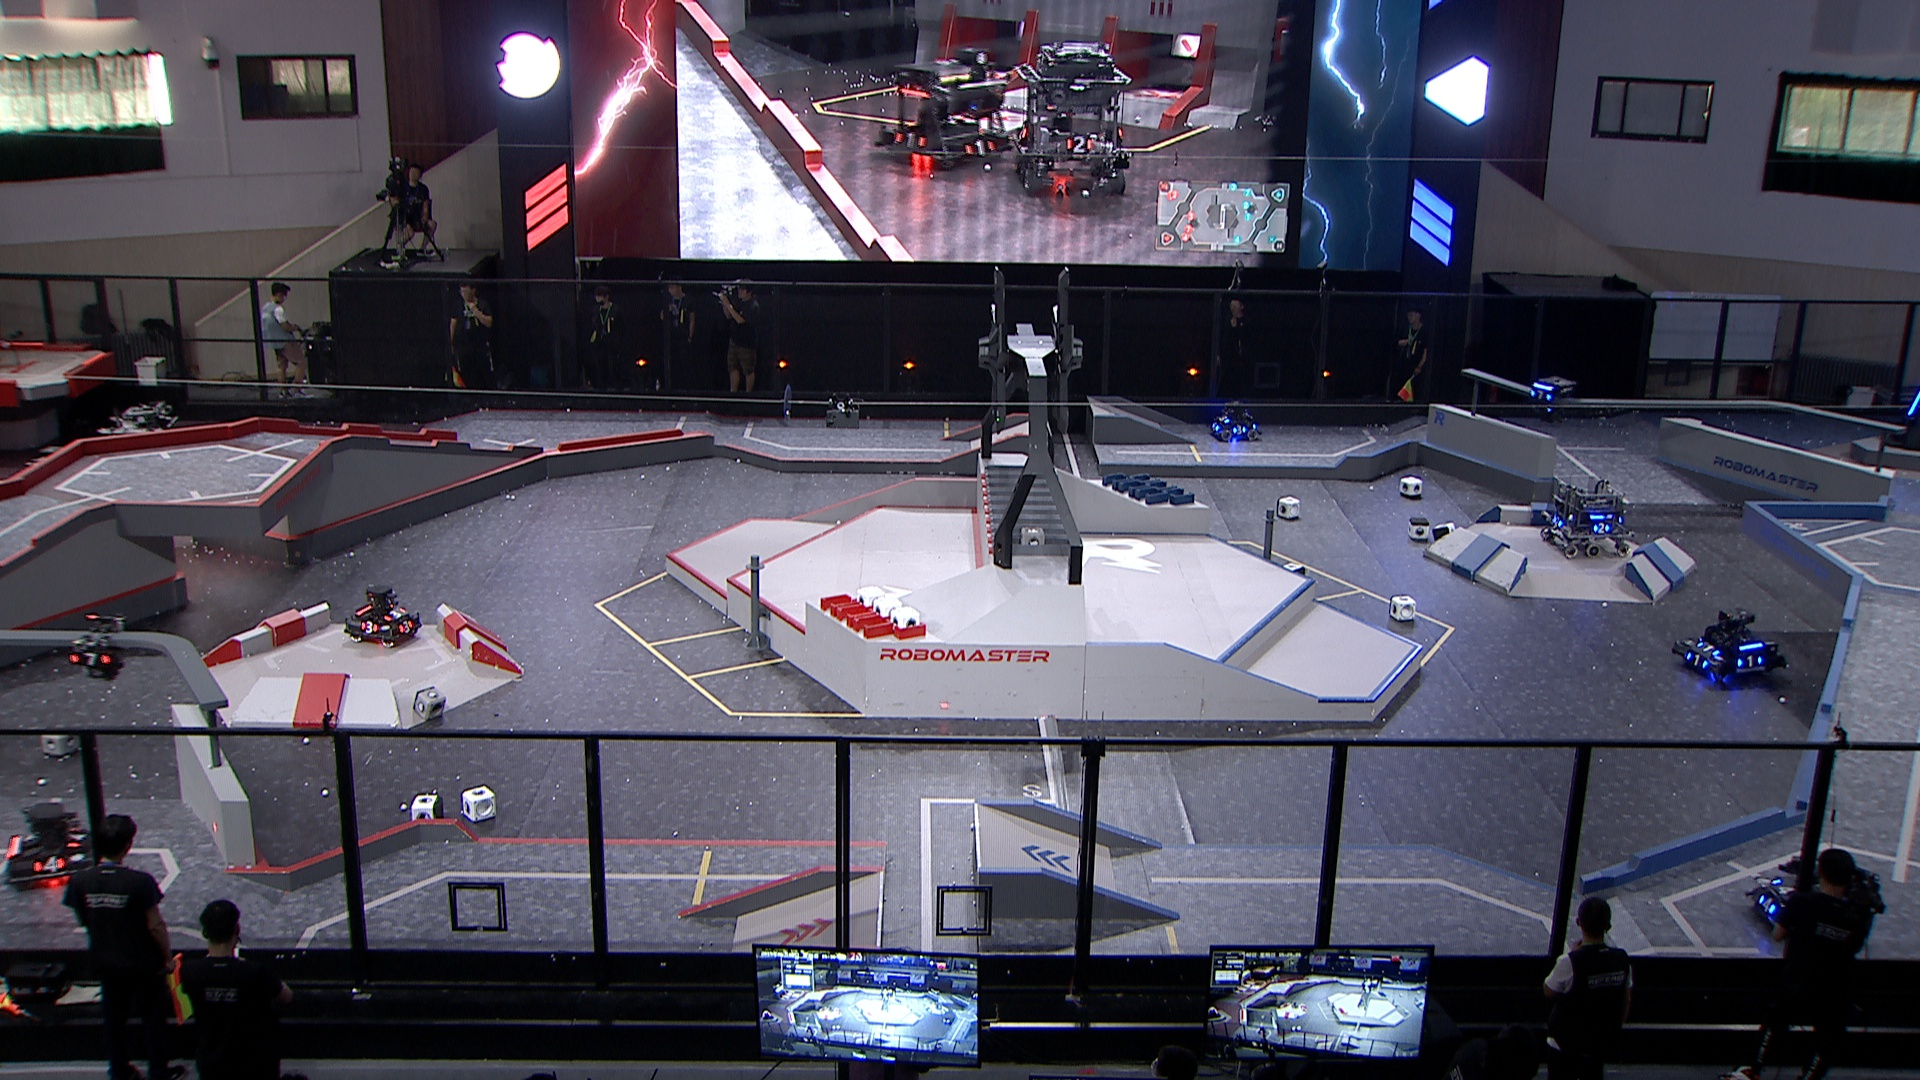armor: (29, 853, 65, 877), (69, 647, 111, 665), (65, 825, 86, 851), (1685, 651, 1712, 670), (1770, 878, 1797, 895), (1528, 386, 1555, 404), (382, 605, 407, 622), (1735, 654, 1764, 669), (1904, 392, 1920, 417), (1756, 894, 1778, 913), (1695, 641, 1721, 655), (357, 618, 377, 636), (1592, 522, 1613, 534), (1549, 516, 1565, 529), (1216, 411, 1232, 425), (400, 617, 413, 632), (1230, 423, 1247, 433), (1211, 419, 1221, 433)
base: (1879, 356, 1920, 456)
car: (0, 804, 111, 891), (1746, 851, 1851, 940), (1669, 605, 1789, 683), (1542, 471, 1636, 562), (92, 400, 186, 480), (343, 584, 419, 651), (1207, 396, 1262, 443)
ignore: (1011, 34, 1133, 190), (884, 47, 1015, 171)
watcher: (67, 609, 129, 683), (1523, 372, 1576, 423)
